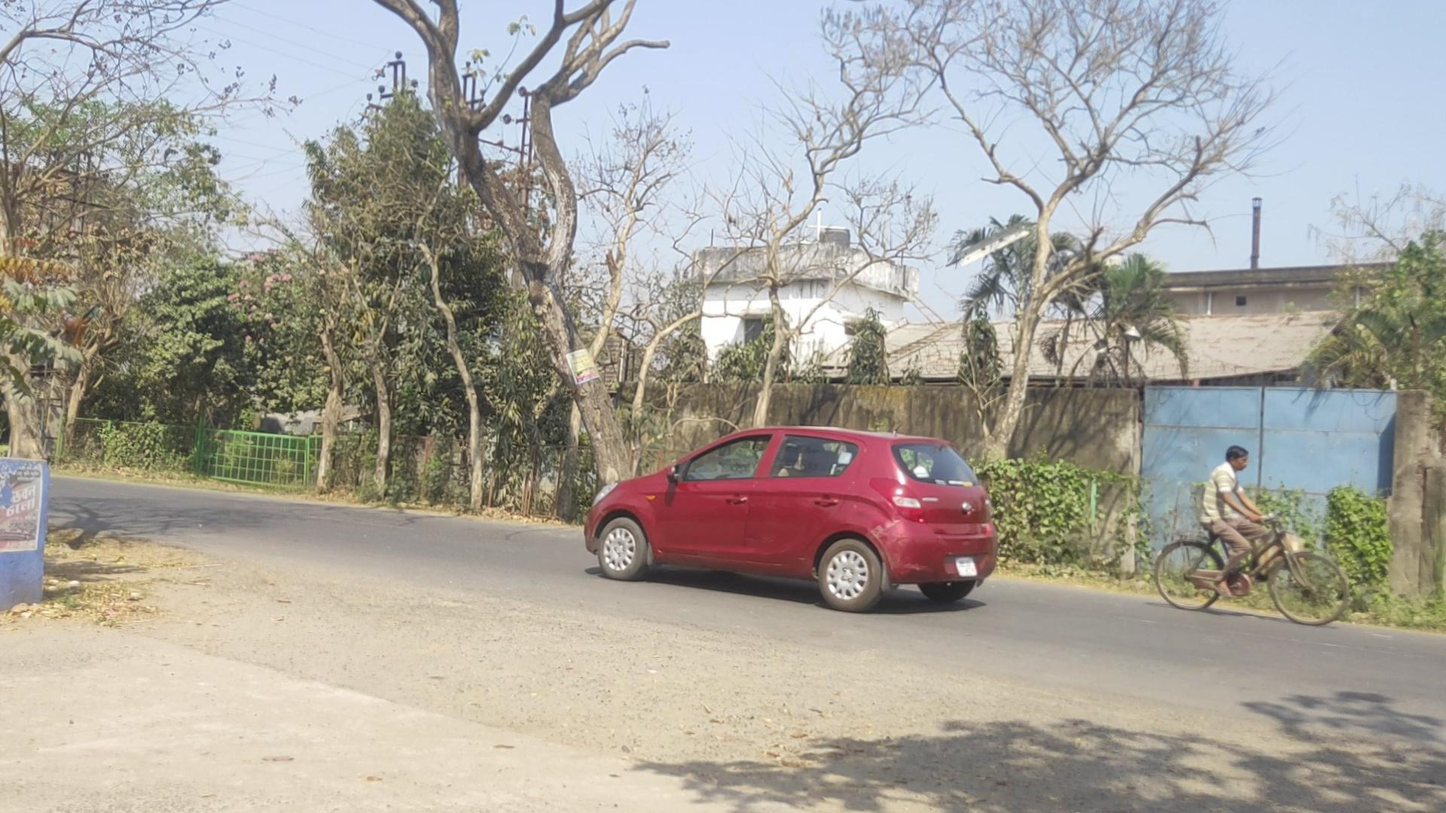bike: (1153, 445, 1349, 626)
car: (583, 424, 998, 613)
